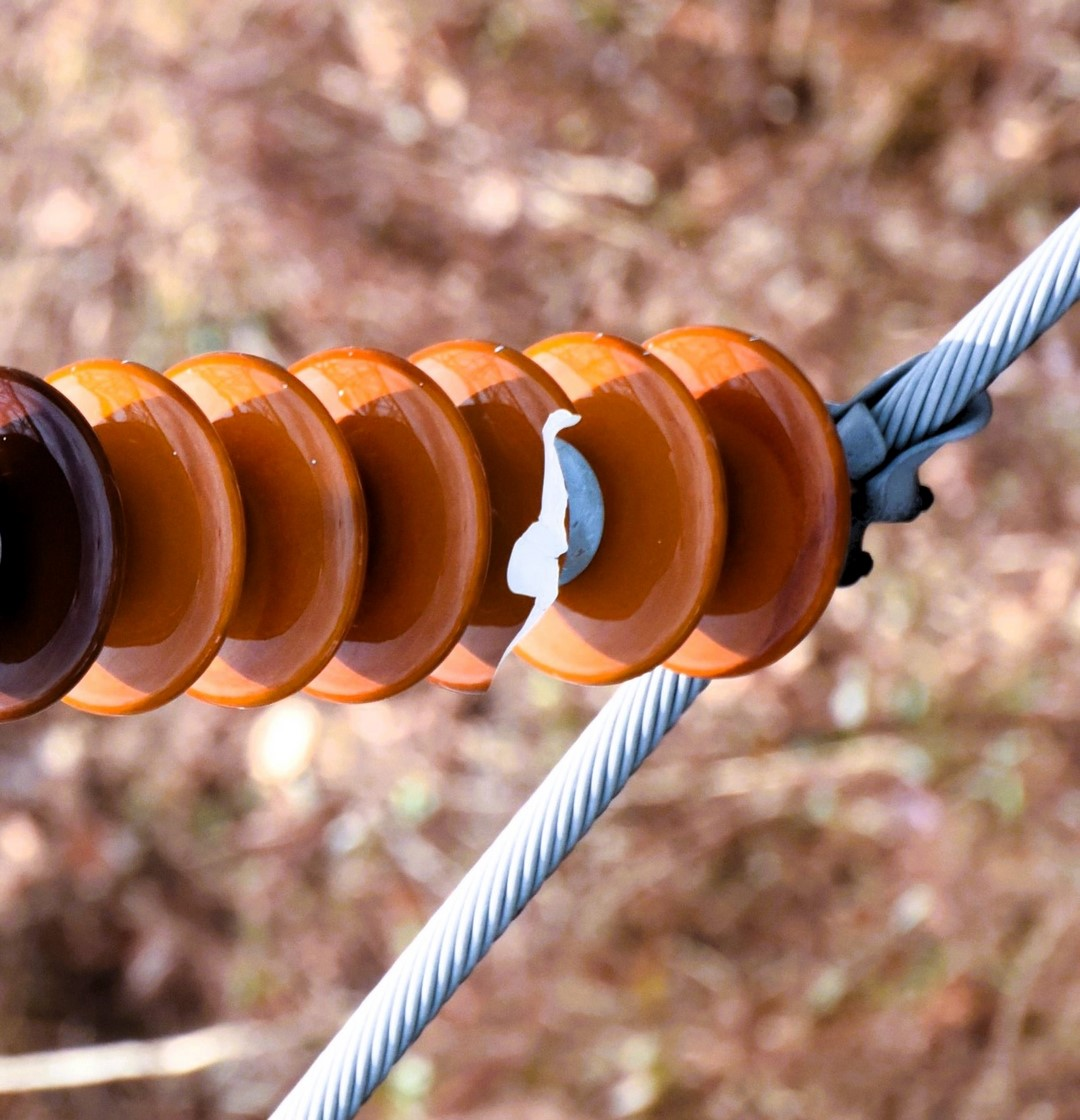insulator breakage: (407, 320, 581, 708)
